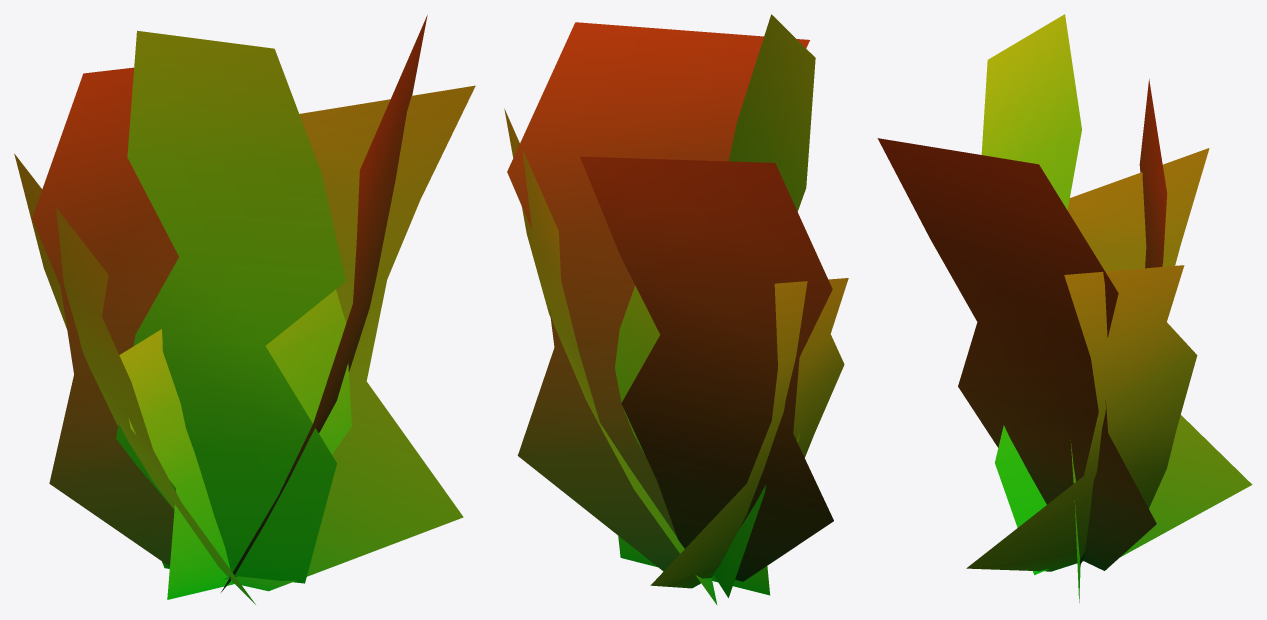
File: Var8Hi58.fbx
The picture shows the model from 3 angles, left to right: view 1: azimuth 30°, elevation 25°; view 2: azimuth 150°, elevation 25°; view 3: azimuth 270°, elevation 25°; orthographic projection. The views are drawn at different scales.
Visible parts, largest first — view 1: bend1; view 2: bend1; view 3: bend1.
Boxes of the visible parts, x1,y1,x2,y2 form: bend1: (14, 15, 475, 604); bend1: (504, 14, 848, 604); bend1: (877, 14, 1252, 602).
Bounding box in the file's own units: 1.26 × 1.77 × 1.19.
